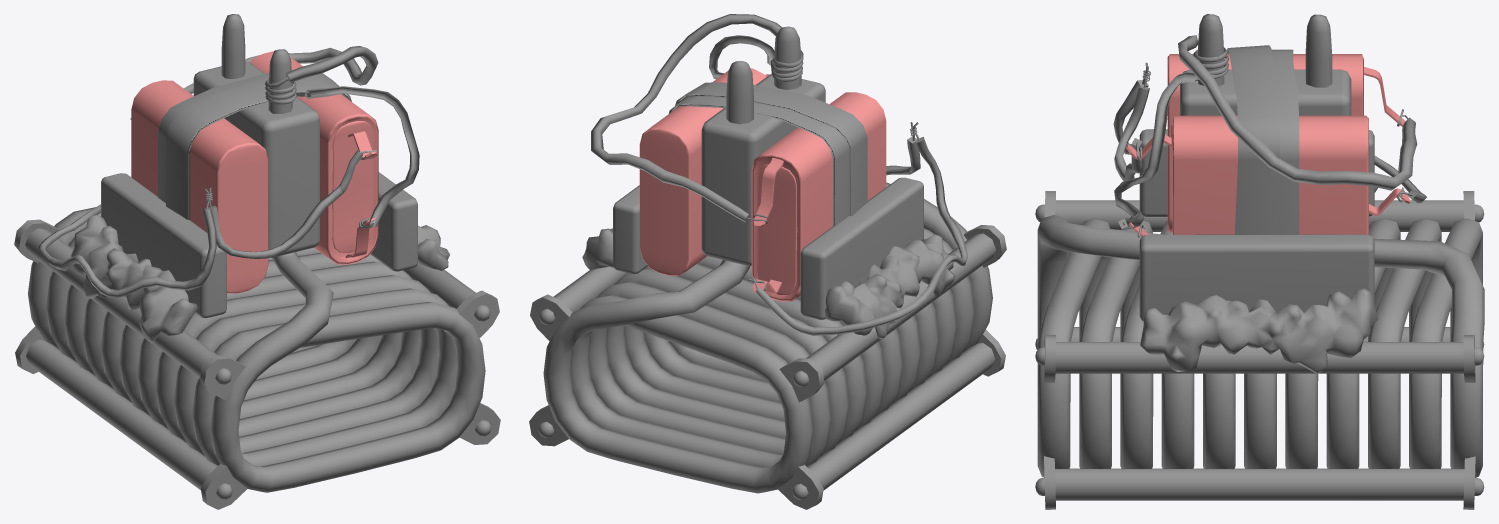
Rendered from SM_Inductor.gltf.
3 views of the same model, side by side, from view 1: azimuth 30°, elevation 25°; view 2: azimuth 150°, elevation 25°; view 3: azimuth 270°, elevation 25° (orthographic). The views are drawn at different scales.
Visible parts, largest first — view 1: SM_Inductor; view 2: SM_Inductor; view 3: SM_Inductor.
Boxes of the visible parts, bbox=[...] form: SM_Inductor: bbox=[14, 14, 500, 509]; SM_Inductor: bbox=[529, 14, 1006, 509]; SM_Inductor: bbox=[1035, 14, 1484, 509].
Size of the model in its own units: 0.1846 by 0.1941 by 0.1874.
